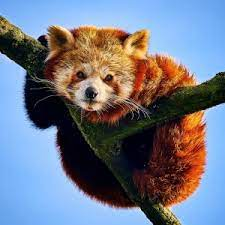Red panda: (43, 19, 150, 111)
